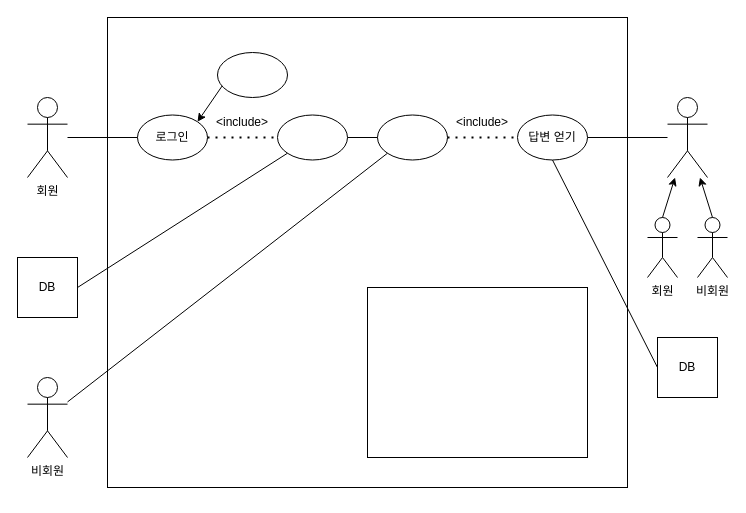
Some shapes in this 746 by 513 pixel diagram are drawn without their labels. Each missing label, with the centre of its shape:
RAG 시스템 작동 중: the point at 477,372
질문하기: the point at 412,137
통합정보 시스템: the point at 252,75
히스토리 보기: the point at 312,137
